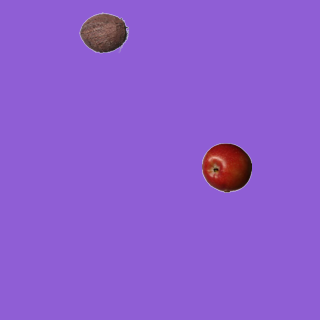Apple Braeburn: (201, 142, 251, 192)
Cocos: (78, 7, 128, 57)
